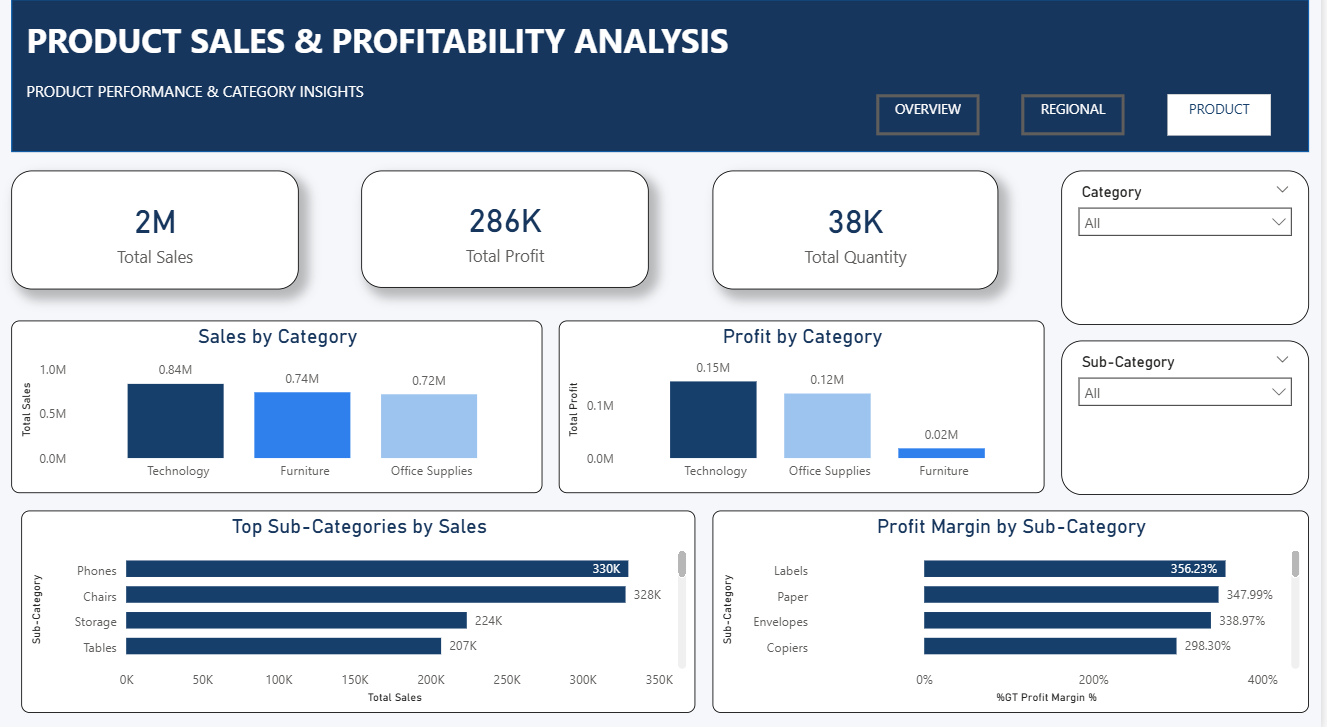

This screenshot's page, from the dashboard's own definition file:
{"tool":"powerbi","page":{"name":"Product","canvas":[1280,720],"ordinal":2},"visuals":[{"type":"shape","box":[11,11,1257,148.2],"z":0},{"type":"textbox","box":[20.6,24.7,701.2,60.4],"z":1000},{"type":"textbox","box":[20.6,85.1,701.2,34.3],"z":2000},{"type":"card","fields":{"Values":["superstore_sales_processed.Total Sales"]},"box":[11,177,278.6,115.3],"z":3000},{"type":"card","fields":{"Values":["superstore_sales_processed.Total Profit"]},"box":[350.4,177,278.6,113.9],"z":4000},{"type":"card","fields":{"Values":["superstore_sales_processed.Total Quantity"]},"box":[689.8,177,277.2,115.3],"z":5000},{"type":"actionButton","box":[1130.7,102.9,100.2,39.8],"z":6000},{"type":"actionButton","box":[989.4,102.9,100.2,39.8],"z":7000},{"type":"actionButton","box":[848,102.9,100.2,39.8],"z":8000},{"type":"textbox","box":[848,102.9,100.2,39.8],"z":9000},{"type":"textbox","box":[989.4,102.9,100.2,39.8],"z":10000},{"type":"textbox","box":[1130.7,102.9,100.2,39.8],"z":11000},{"type":"slicer","fields":{"Values":["superstore_sales_processed.Category"]},"box":[1027.8,177,240.1,149.6],"z":12000},{"type":"slicer","fields":{"Values":["superstore_sales_processed.Sub-Category"]},"box":[1027.8,341.7,240.1,149.6],"z":13000},{"type":"clusteredColumnChart","title":"Sales by Category","fields":{"Category":["superstore_sales_processed.Category"],"Y":["superstore_sales_processed.Total Sales"]},"box":[11,322.5,514.6,167.4],"z":14000},{"type":"clusteredColumnChart","title":"Profit by Category","fields":{"Category":["superstore_sales_processed.Category"],"Y":["superstore_sales_processed.Total Profit"]},"box":[541.3,322.5,470.7,167.4],"z":15000},{"type":"barChart","title":"Top Sub-Categories by Sales","fields":{"Category":["superstore_sales_processed.Sub-Category"],"Y":["superstore_sales_processed.Total Sales"]},"box":[20.6,506.3,653.2,196.2],"z":16000},{"type":"clusteredBarChart","title":"Profit Margin by Sub-Category","fields":{"Category":["superstore_sales_processed.Sub-Category"],"Y":["superstore_sales_processed.Profit Margin %"]},"box":[690.2,506.3,577.7,196.2],"z":17000}]}

Visuals, with their boxes in screenshot pixels (x1, y1, x2, y2), scaled from the page's 1280x720 canvas onto the 1327x727 screenshot:
shape: bbox(11, 11, 1315, 161)
textbox: bbox(21, 25, 748, 86)
textbox: bbox(21, 86, 748, 121)
card - superstore_sales_processed.Total Sales: bbox(11, 179, 300, 295)
card - superstore_sales_processed.Total Profit: bbox(363, 179, 652, 294)
card - superstore_sales_processed.Total Quantity: bbox(715, 179, 1003, 295)
actionButton: bbox(1172, 104, 1276, 144)
actionButton: bbox(1026, 104, 1130, 144)
actionButton: bbox(879, 104, 983, 144)
textbox: bbox(879, 104, 983, 144)
textbox: bbox(1026, 104, 1130, 144)
textbox: bbox(1172, 104, 1276, 144)
slicer - superstore_sales_processed.Category: bbox(1066, 179, 1314, 330)
slicer - superstore_sales_processed.Sub-Category: bbox(1066, 345, 1314, 496)
"Sales by Category" clusteredColumnChart: bbox(11, 326, 545, 495)
"Profit by Category" clusteredColumnChart: bbox(561, 326, 1049, 495)
"Top Sub-Categories by Sales" barChart: bbox(21, 511, 699, 709)
"Profit Margin by Sub-Category" clusteredBarChart: bbox(716, 511, 1314, 709)
